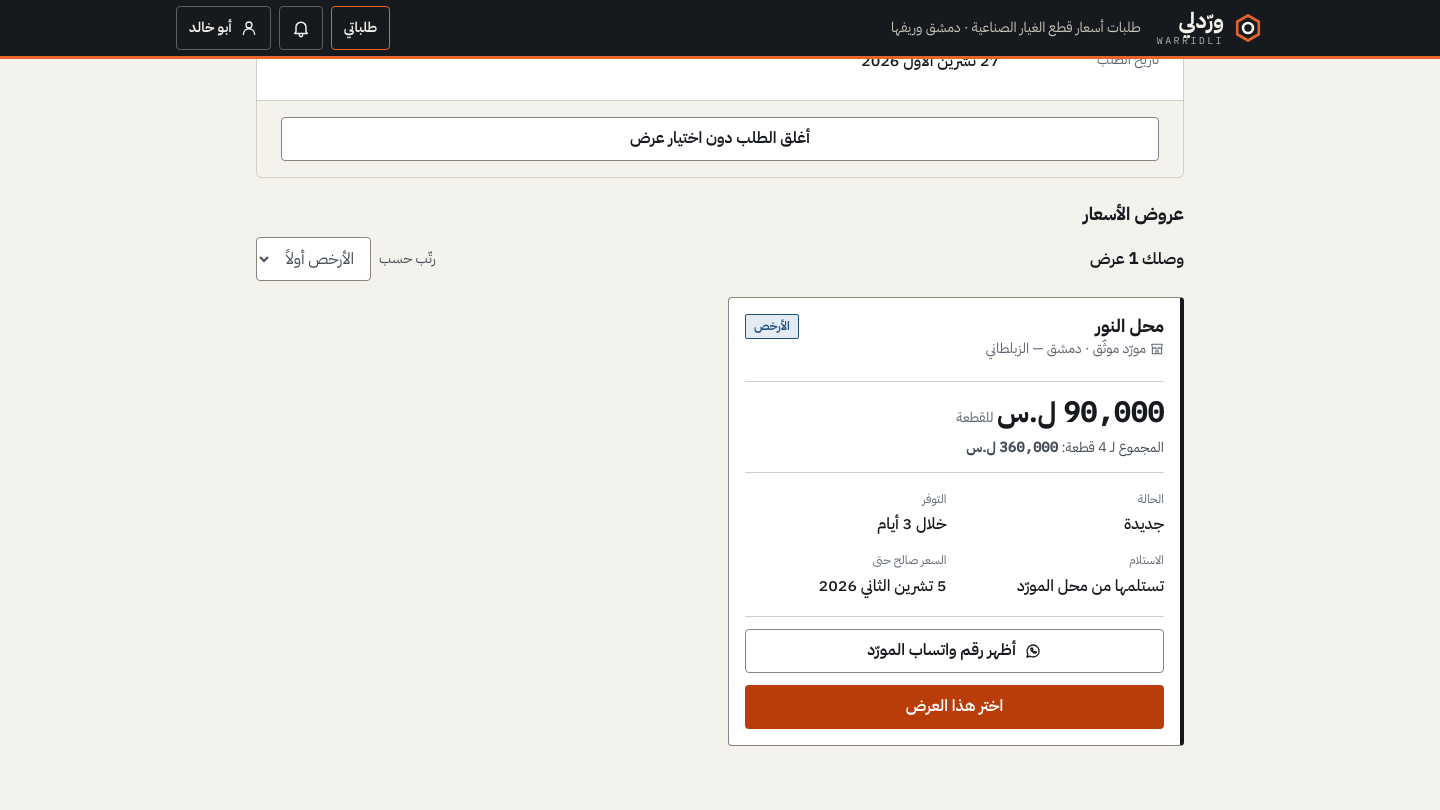
Test: buyer quote comparison › reveals the supplier number only on request, with a WhatsApp link
(page scrolled)
Click the button "أظهر رقم واتساب المورّد". click: [954, 651]
box: [745,629,1164,673]
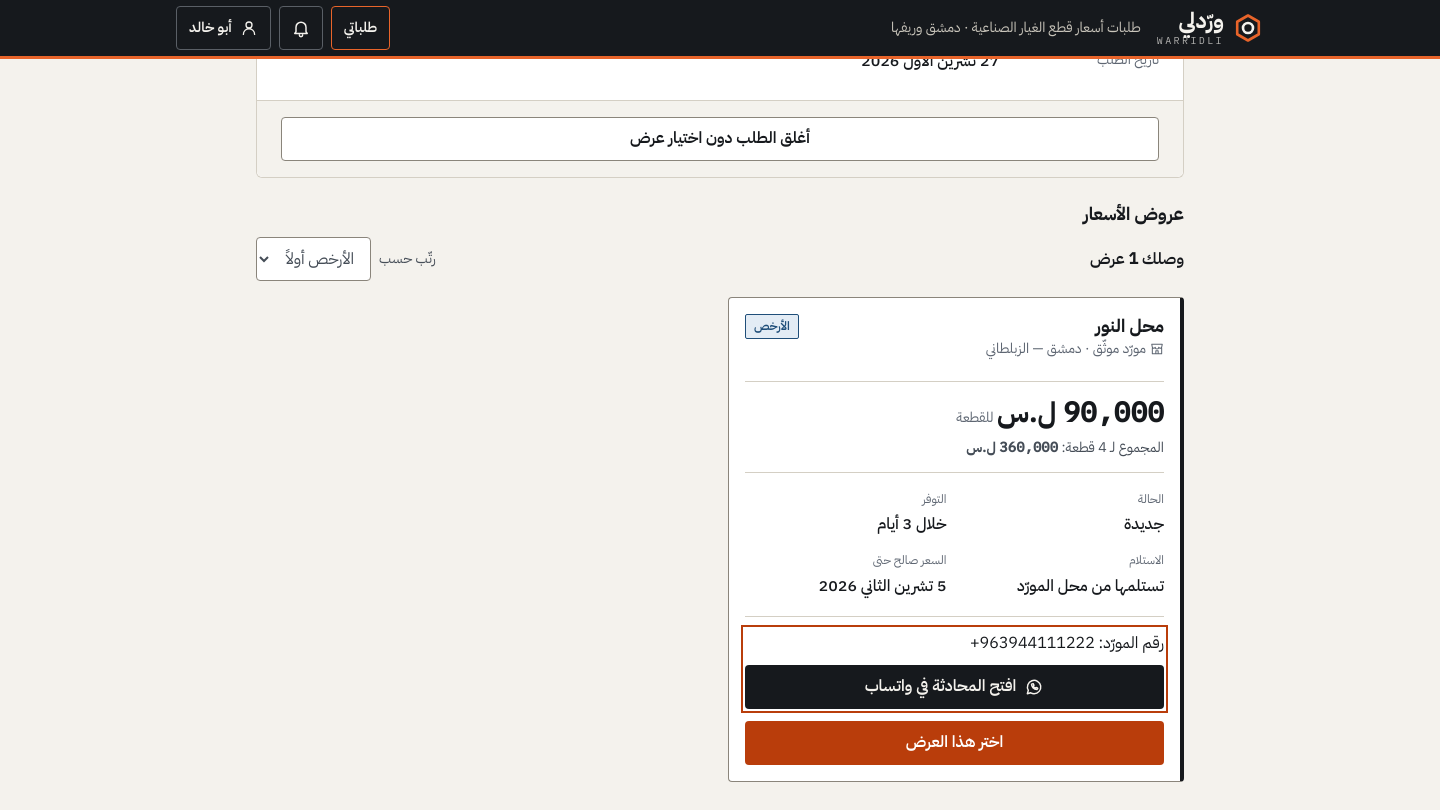
Expected: the text "+963944111222" is shown, [970,632,1095,652]
